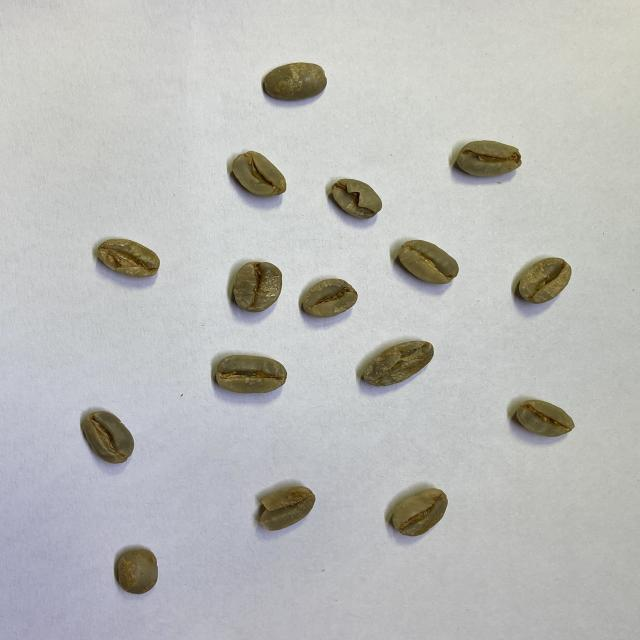bad: (361, 340, 435, 386), (82, 412, 134, 464), (257, 486, 314, 533), (455, 140, 523, 178), (96, 239, 159, 278), (332, 179, 382, 220)
good: (390, 488, 449, 538), (230, 150, 288, 198), (216, 355, 287, 394), (398, 239, 459, 284), (232, 260, 282, 313), (262, 62, 327, 101), (519, 257, 572, 303), (515, 399, 575, 439), (301, 278, 357, 317), (116, 548, 158, 594)
